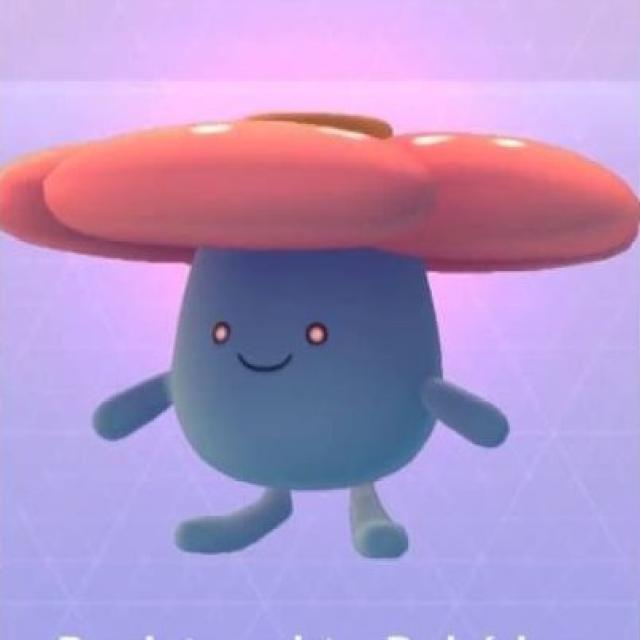Vileplume: (80, 94, 524, 556)
